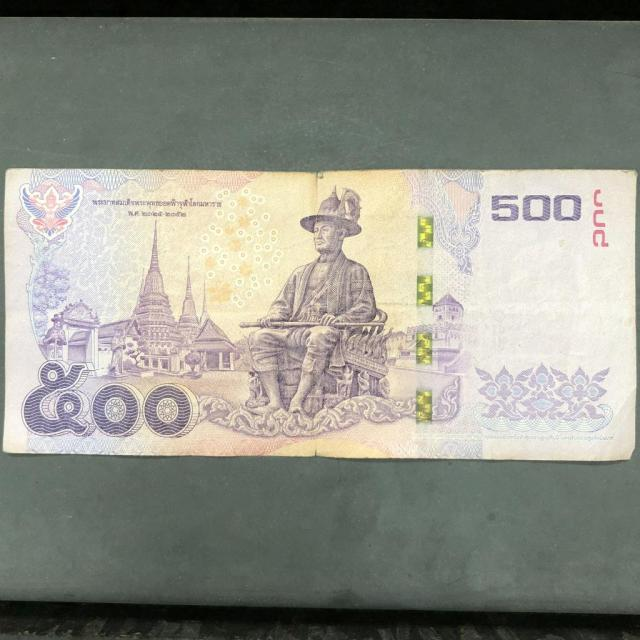THAI500: (0, 169, 639, 466)
